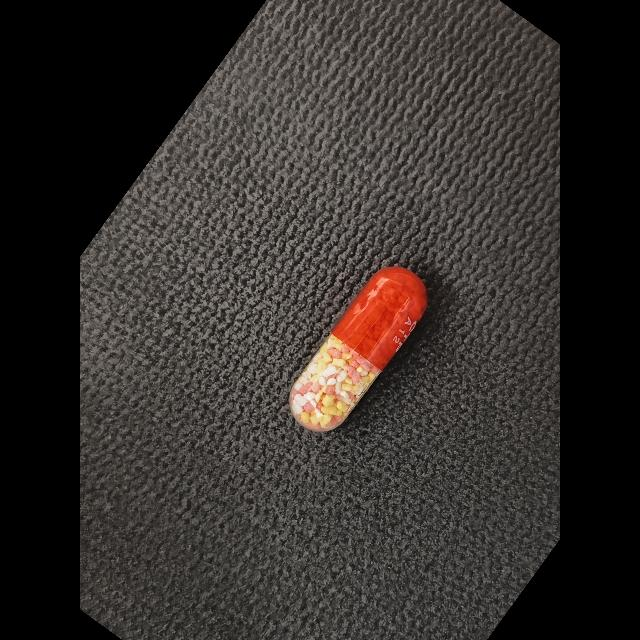Intact Capsule: (290, 266, 427, 431)
